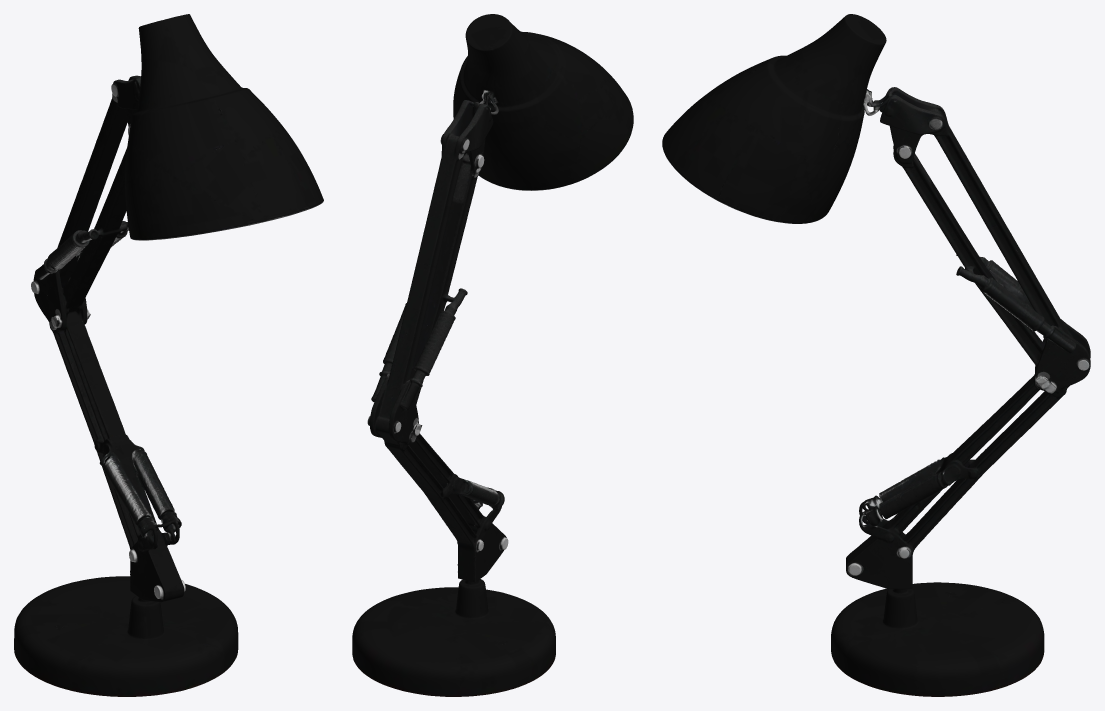
File: Meshy_AI_Black_Adjustable_Desk_0909141032_texture.glb
The picture shows the model from 3 angles, left to right: view 1: azimuth 30°, elevation 25°; view 2: azimuth 150°, elevation 25°; view 3: azimuth 270°, elevation 25°; orthographic projection. The views are drawn at different scales.
Bounding box in the file's own units: 0.5775 × 1.9 × 1.16.
1 material, 1 textured.
